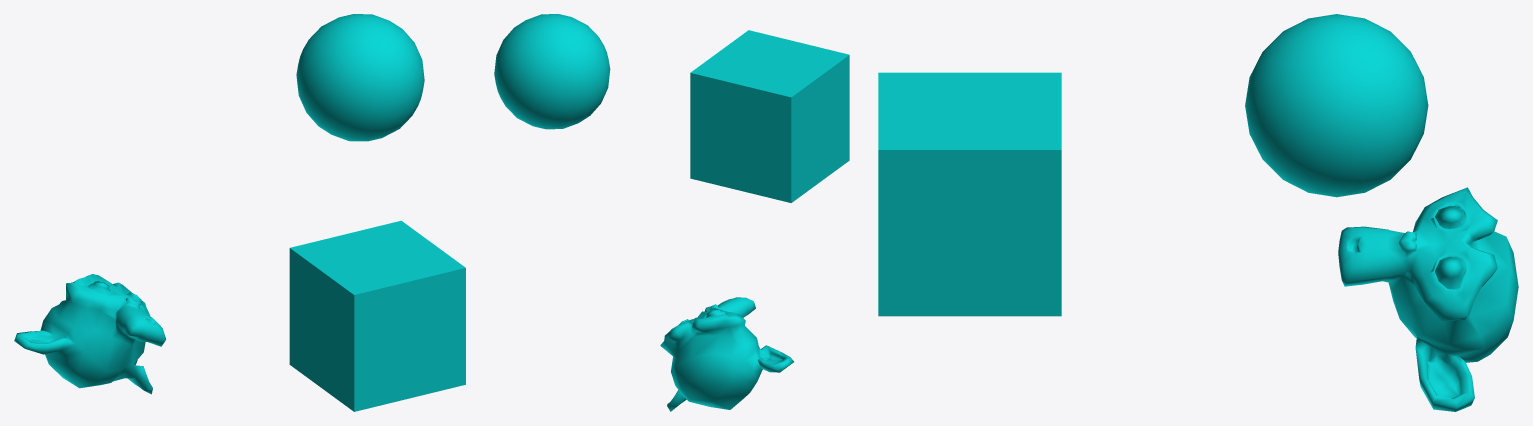
Rendered from test_render.dae.
The picture shows the model from 3 angles, left to right: view 1: azimuth 30°, elevation 25°; view 2: azimuth 150°, elevation 25°; view 3: azimuth 270°, elevation 25°; orthographic projection. The views are drawn at different scales.
Parts seen in each view (by area): view 1: Cube, Sphere, Monkey; view 2: Cube, Sphere, Monkey; view 3: Cube, Sphere, Monkey.
Boxes of the visible parts, x1,y1,x2,y2 form: Cube: (289, 220, 465, 411); Sphere: (296, 14, 424, 141); Monkey: (14, 274, 165, 394); Cube: (690, 30, 849, 202); Sphere: (494, 14, 610, 129); Monkey: (660, 297, 793, 411); Cube: (878, 72, 1061, 316); Sphere: (1245, 14, 1428, 197); Monkey: (1338, 187, 1518, 411).
Size of the model in its own units: 6.43 by 6.98 by 6.12.
